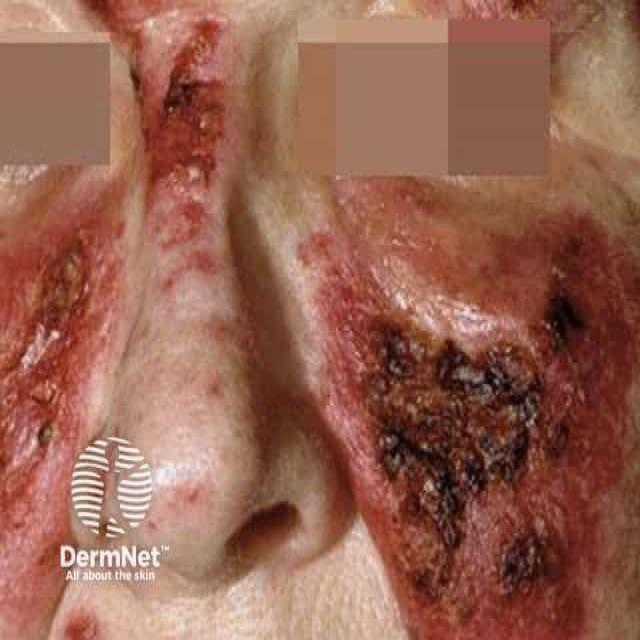lupus-detected: (305, 207, 640, 640), (86, 0, 296, 394), (3, 190, 119, 640)
